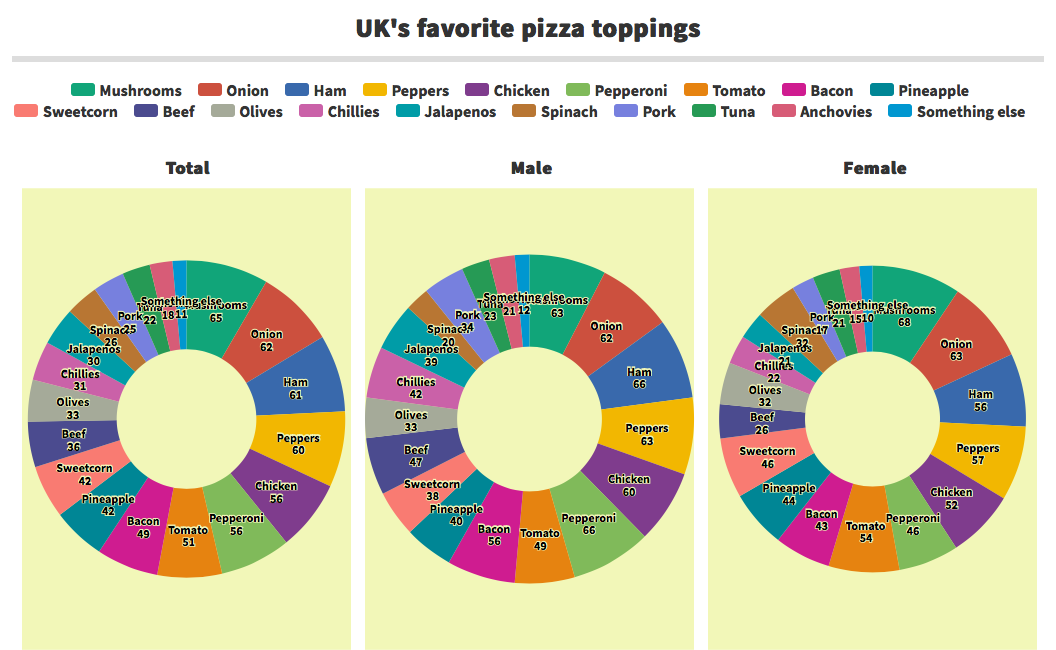

Layout of this report page (visuals, bound fields, positions):
{"tool":"tableau","page":{"name":"Dashboard 1","canvas":[1000,800],"ordinal":0},"visuals":[{"type":"worksheet","title":"Hoja 1","mark":"Automatic","box":[27.2,0,484,800]},{"type":"worksheet","title":"Hoja 2","mark":"Pie","box":[511.2,0,335.8,266]},{"type":"legend","title":"Hoja 2","param":"[federated.0aqpzor0cfh1yt19jsnu90zolvnj].[none:REASONS:nk]","box":[847,0,153,150]},{"type":"legend","title":"Hoja 3","param":"[federated.0zjvxvi005toqd1ezvnme0x4bvzn].[sum:F2:qk]","box":[847,150,153,65]},{"type":"worksheet","title":"Hoja 3","mark":"Automatic","box":[511.2,266,335.8,400]},{"type":"blank","box":[0,316,27.2,484]},{"type":"blank","box":[511.2,666,335.8,134]}]}

Visuals, with their boxes on the page's 1000x800 design canvas (x1, y1, x2, y2). These are canvas units, not pixel positions in the 1056x650 screenshot, which may show the page scaled, cropped or inside an application window:
"Hoja 1" worksheet: Rect(27, 0, 511, 800)
"Hoja 2" worksheet (Pie marks): Rect(511, 0, 847, 266)
"Hoja 2" legend: Rect(847, 0, 1000, 150)
"Hoja 3" legend: Rect(847, 150, 1000, 215)
"Hoja 3" worksheet: Rect(511, 266, 847, 666)
blank: Rect(0, 316, 27, 800)
blank: Rect(511, 666, 847, 800)
